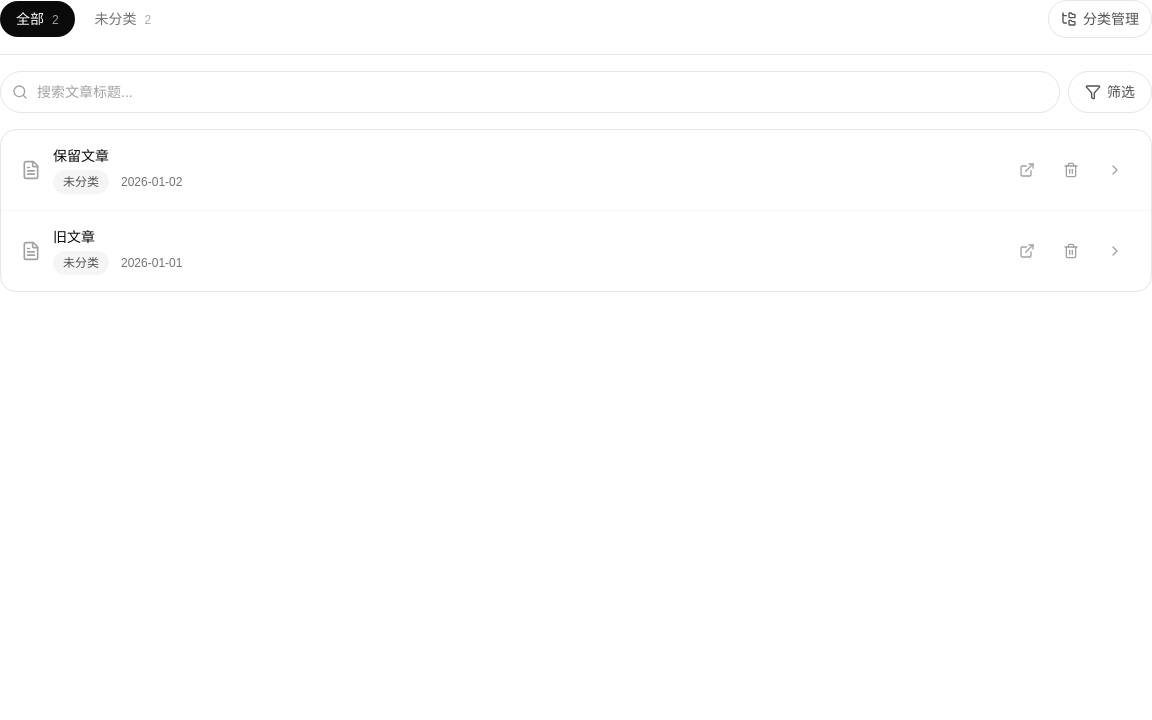
Test: ArticleAdminList › asks for confirmation and commits deletion
The image size is (1152, 720).
Click the button named "删除 旧文章" at point(1071, 251), box [1055,235,1087,267]
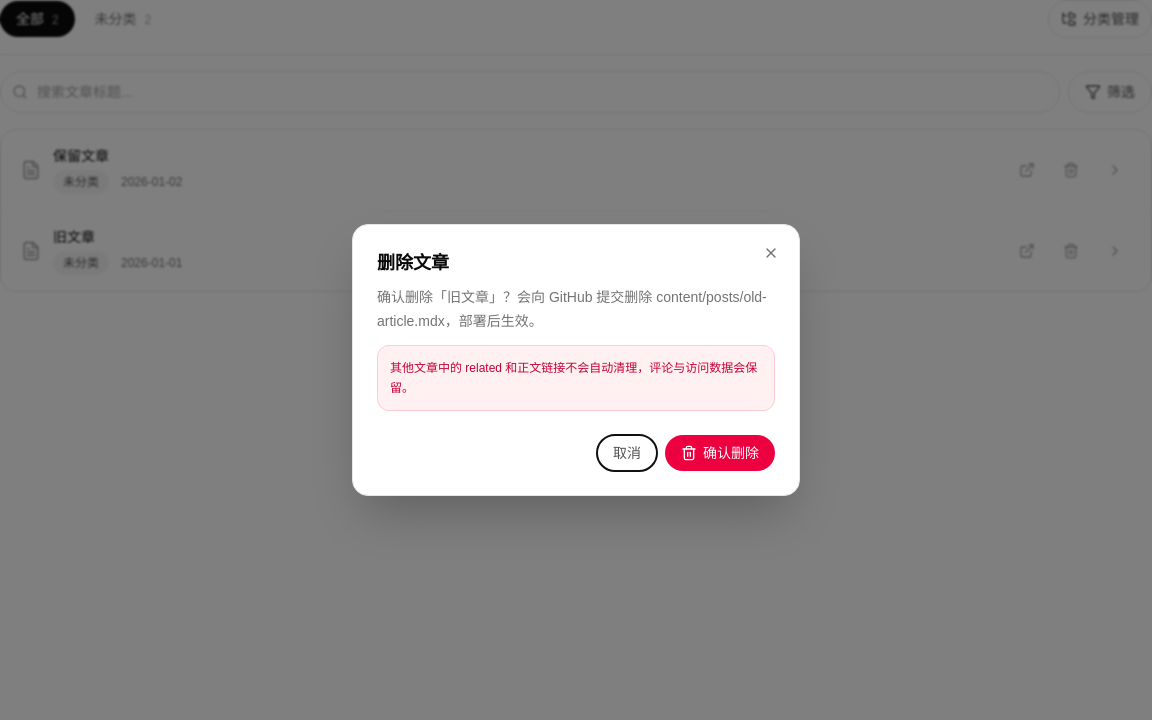
Expected: the link to "/admin/articles/old-article/edit" is shown, [53,229,95,245]
Expected: the dialog is shown, [352,224,800,496]
Expected: the text "确认删除" is shown, [377,289,447,305]
Click the button "确认删除" at point(720, 453), box [665,435,775,471]
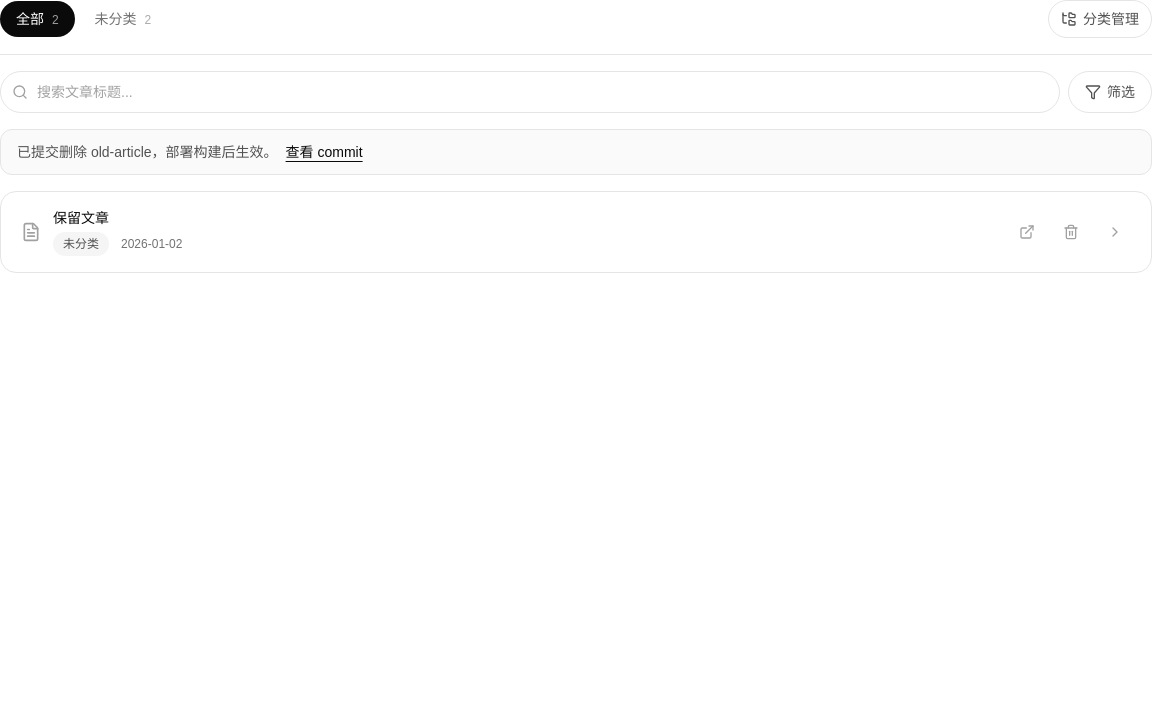
Expected: the text "保留文章" is shown, [53,210,109,226]
Expected: the text "已提交删除" is shown, [17,144,91,160]
Expected: the text "旧文章" is gone
